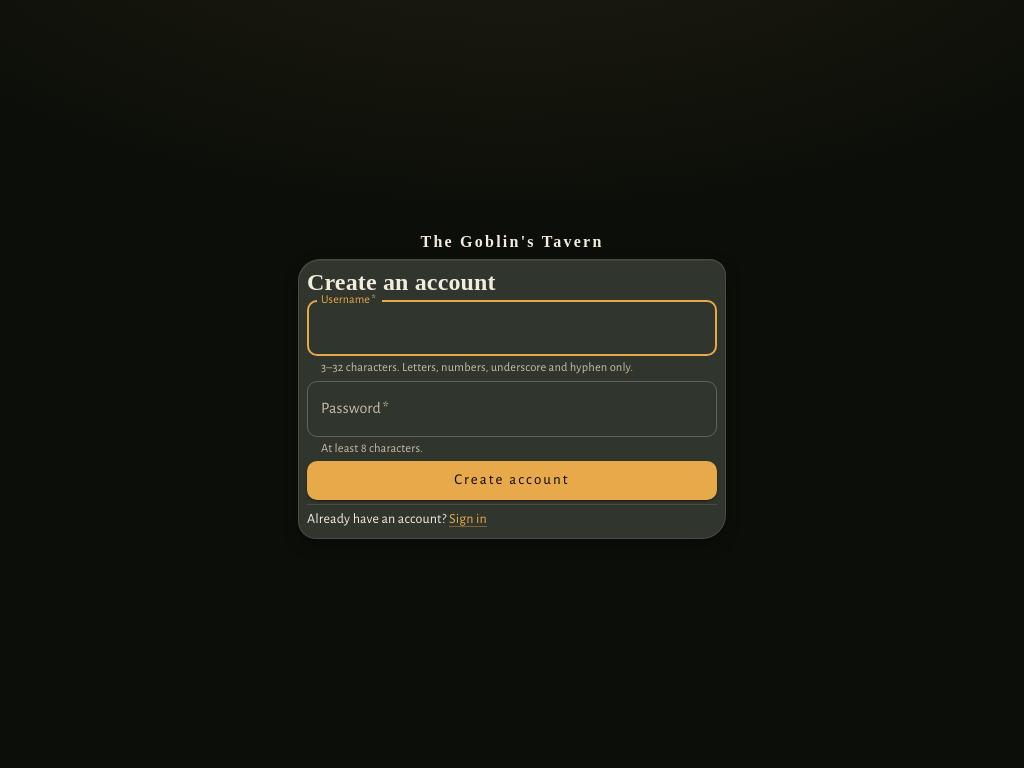
SignUpRoute (UI-13 … UI-20) › UI-20 / 34: on success lands on / via replace, already signed in, greeting shows the server's lower-cased username
Type "Aragorn" into the field labelled "Username *" at (512, 328), box [307, 300, 717, 356]
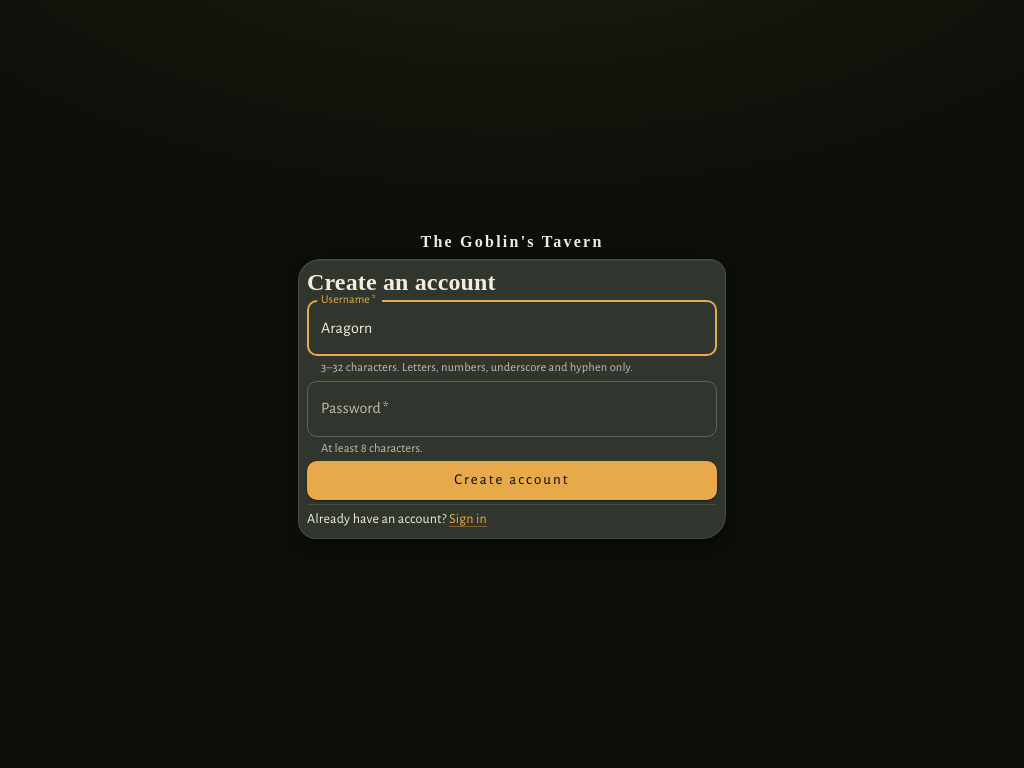
Type "hunter-of-orcs" into the password field labelled "Password *" at (512, 409), box [307, 381, 717, 437]
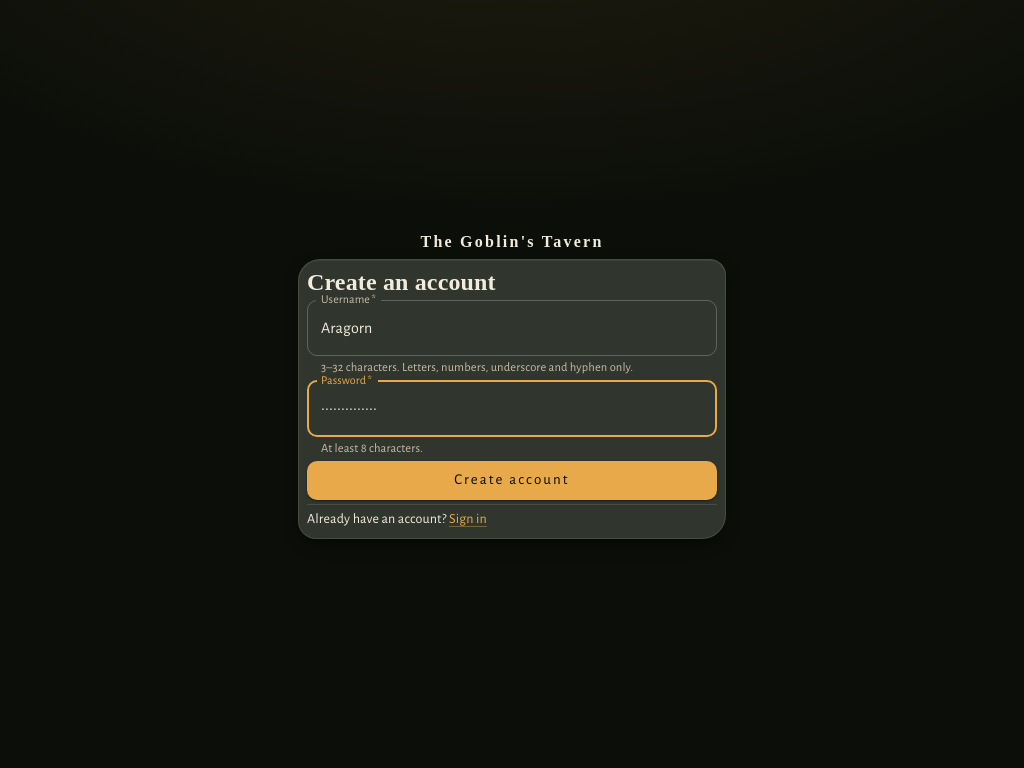
Click the button "Create account" at (512, 481), box [307, 461, 717, 500]
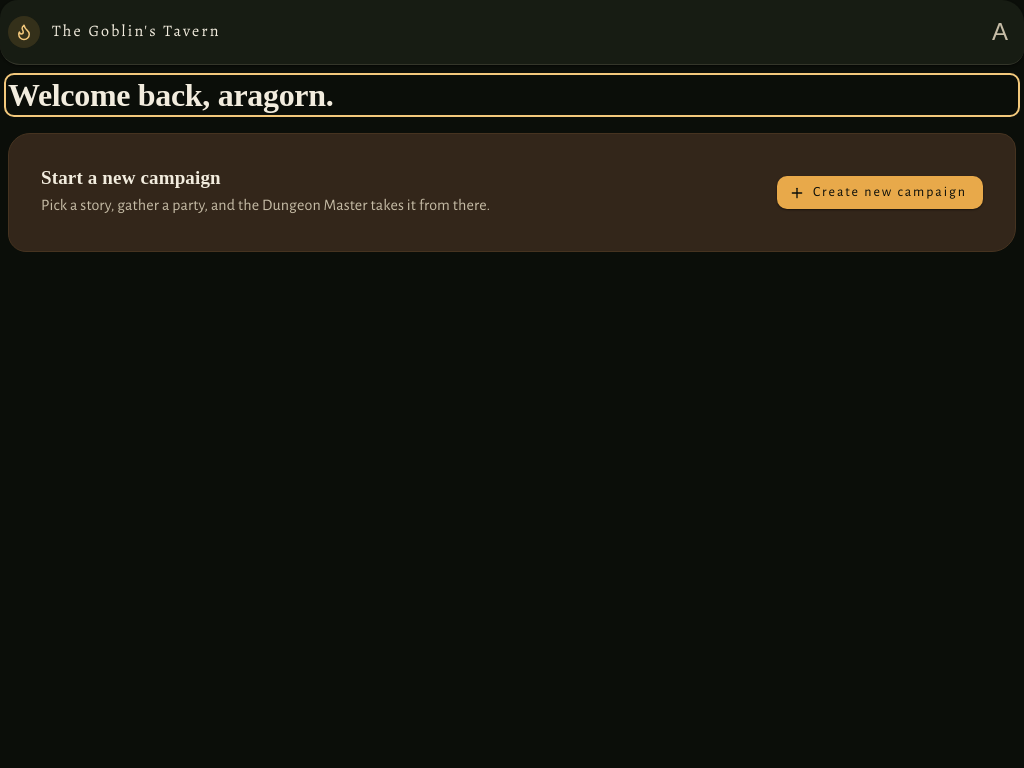
Check: the heading reads "Welcome back, aragorn.", box [8, 77, 333, 113]
